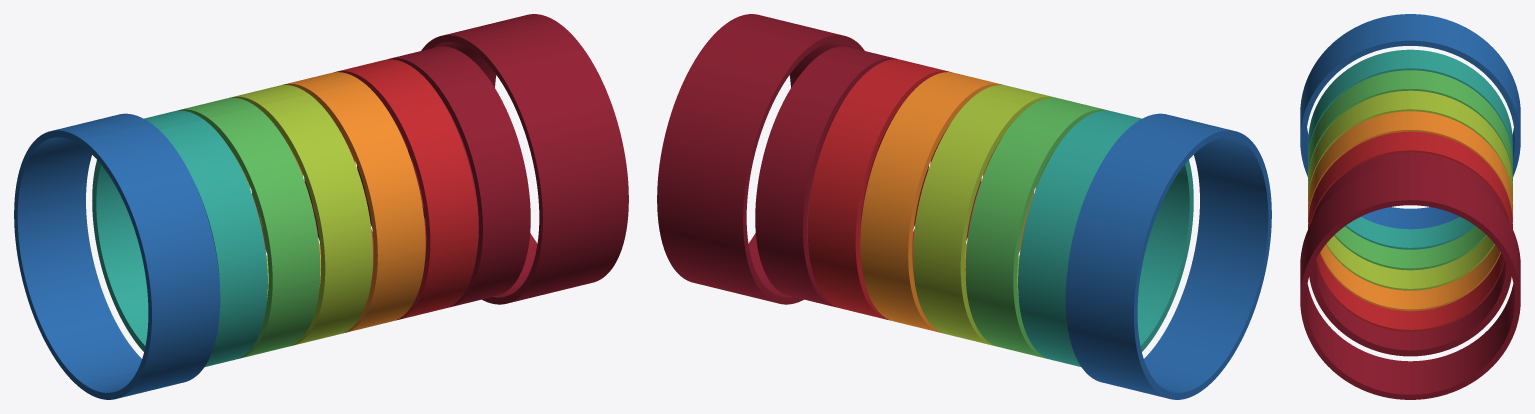
The model's file is horizontal_multistage_pump_pressure.glb.
3 views of the same model, side by side, from view 1: azimuth 30°, elevation 25°; view 2: azimuth 150°, elevation 25°; view 3: azimuth 270°, elevation 25° (orthographic). The views are drawn at different scales.
Visible parts, largest first — view 1: pressure_rings__front, pressure_rings__back; view 2: pressure_rings__back, pressure_rings__front; view 3: pressure_rings__back, pressure_rings__front.
Part boxes in pixels (<box>): pressure_rings__front: <box>83,24,628,399</box>; pressure_rings__back: <box>14,14,559,389</box>; pressure_rings__back: <box>657,24,1202,399</box>; pressure_rings__front: <box>726,14,1271,389</box>; pressure_rings__back: <box>1410,14,1520,399</box>; pressure_rings__front: <box>1300,14,1410,399</box>.
Bounding box in the file's own units: 0.998 × 0.5 × 0.5.
